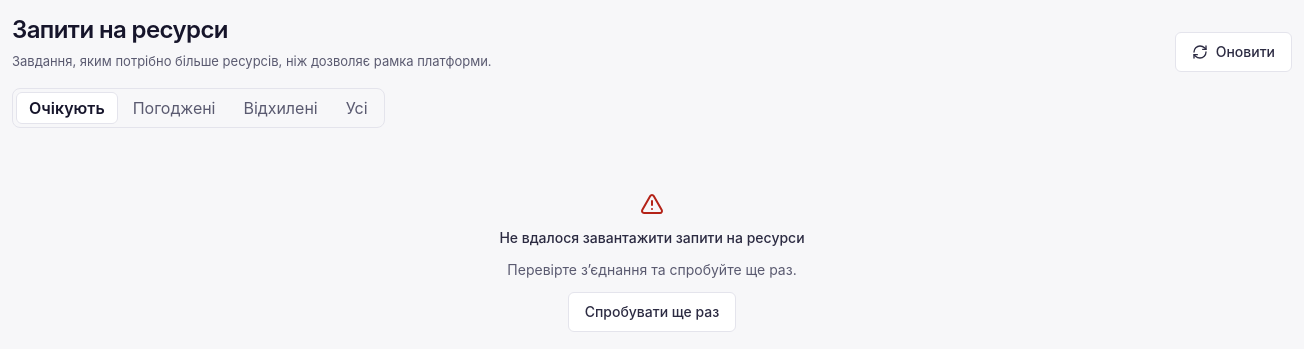
Test: elevations list › shows the centered load error with a retry
Click the button "Спробувати ще раз" at [652, 312], box 568,292 -> 736,332
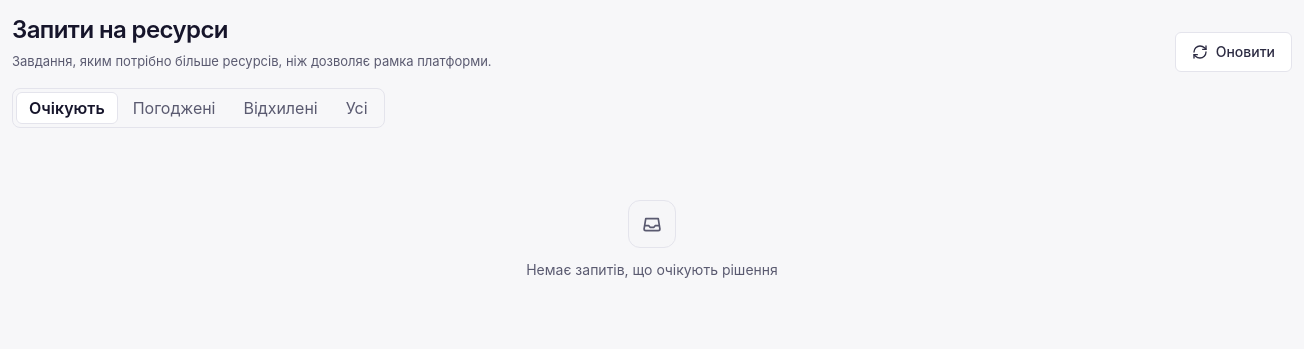
Check: the text "Немає запитів, що очікують рішення" is shown, box 526,260 -> 778,280
